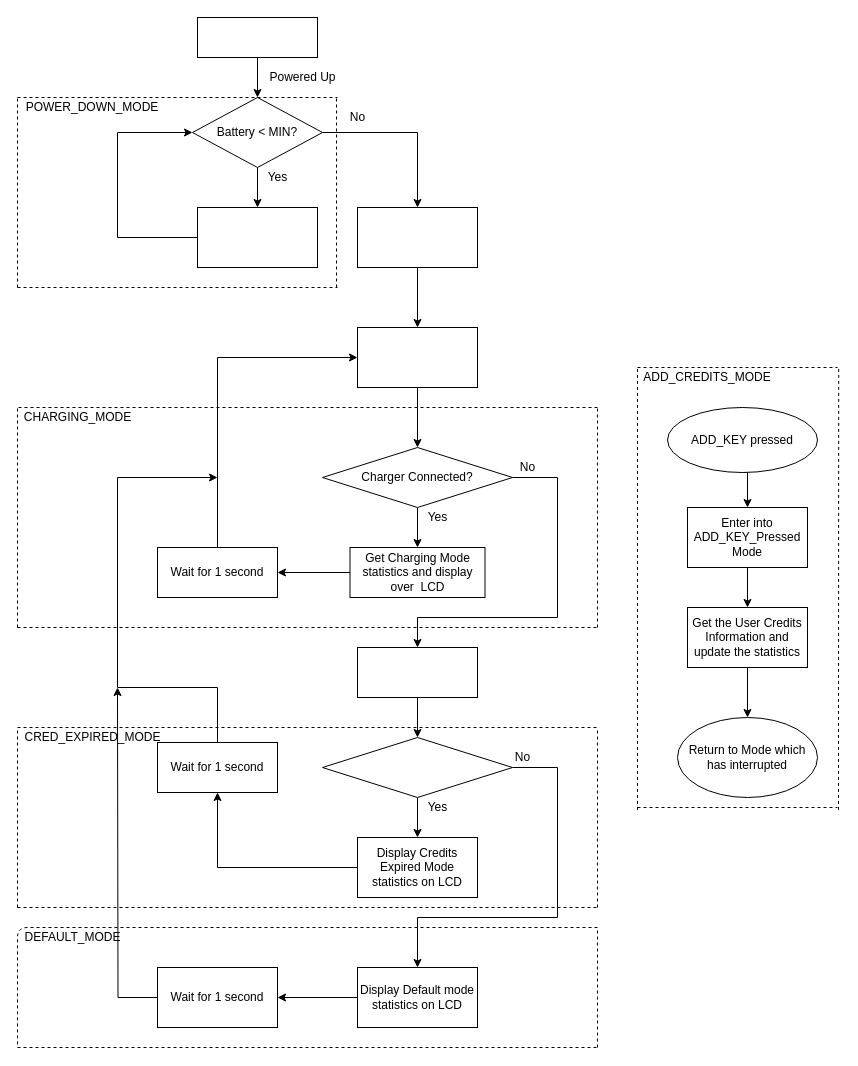
This 858x1066 diagram has some shape labels left out. The centre of each missing label's shape, as x and y in pixels:
"Credits Expired?" goes at [417,767].
"Enable ADD_KEY Interrupt" goes at [417,237].
"Read Credits from the system" goes at [417,672].
"Read Statistics from BMS System" goes at [417,357].
"System Off" goes at [257,37].
"Turn off LCD display to save the power" goes at [257,237].
